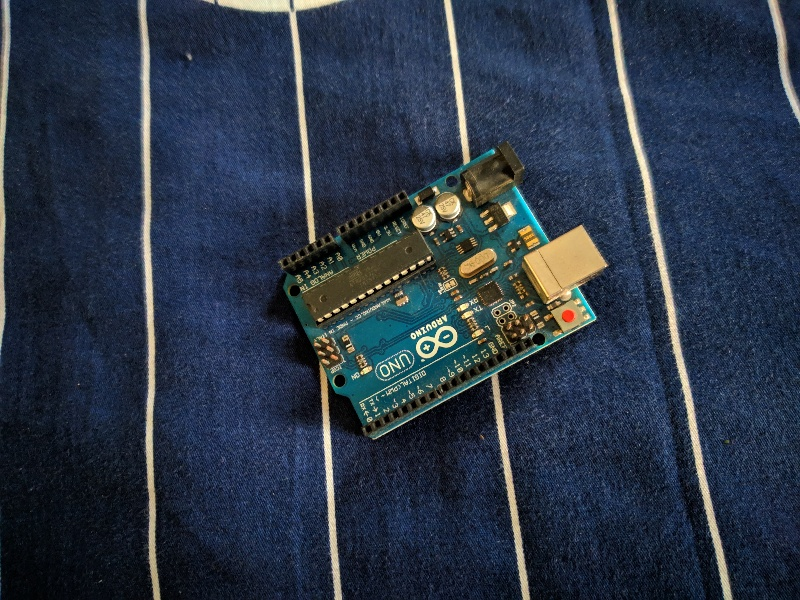Arduino UNO: (271, 135, 612, 448)
